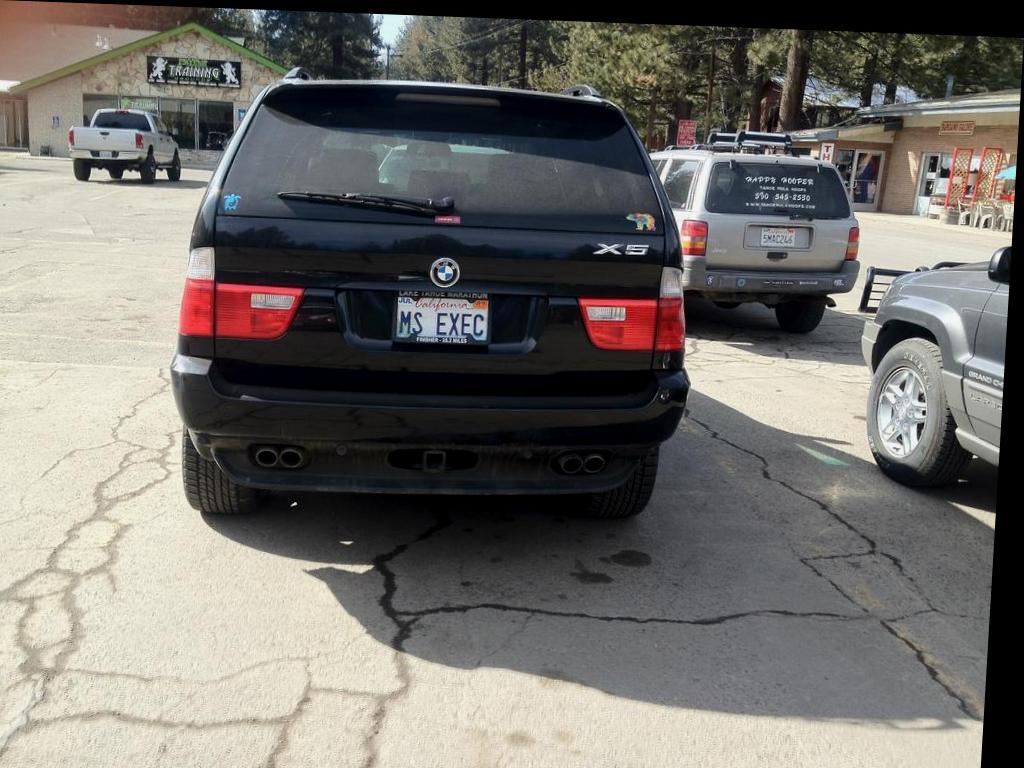License_Plate: (393, 286, 491, 346), (760, 227, 796, 245), (98, 151, 109, 157)
